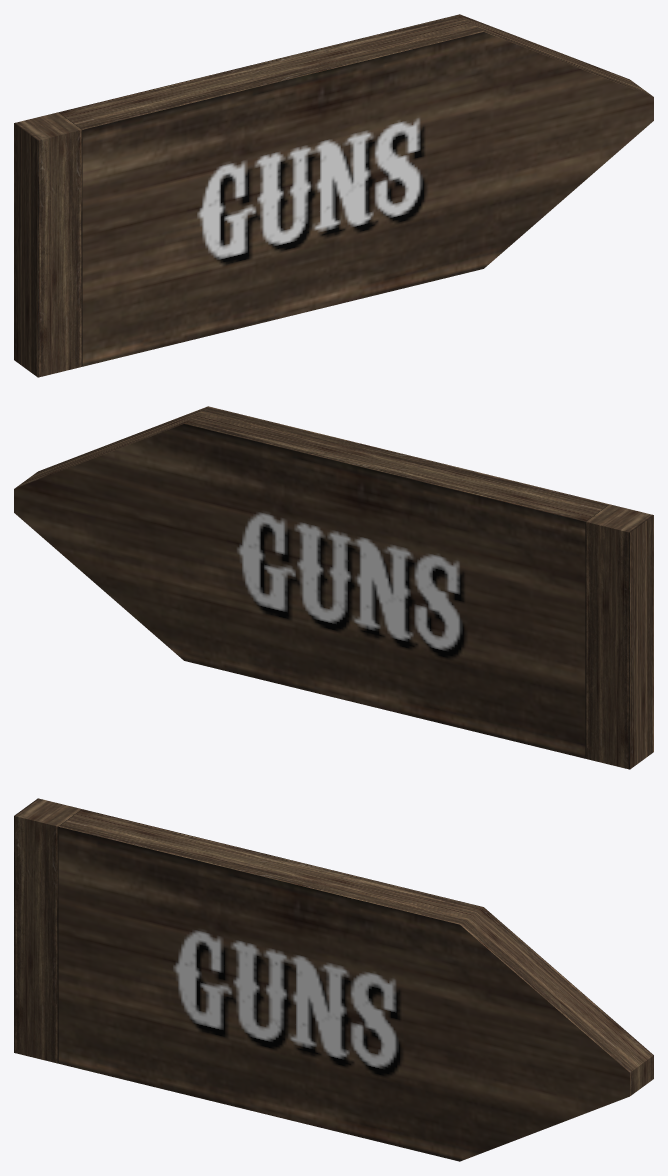
Rendered from wooden-sign-01.fbx.
The picture shows the model from 3 angles, top to bottom: view 1: azimuth 30°, elevation 25°; view 2: azimuth 150°, elevation 25°; view 3: azimuth 330°, elevation 25°; orthographic projection.
Parts seen in each view (by area): view 1: Cube.250; view 2: Cube.250; view 3: Cube.250.
Part boxes in pixels (bbox=[...]): Cube.250: bbox=[14, 14, 653, 377]; Cube.250: bbox=[14, 406, 653, 769]; Cube.250: bbox=[14, 798, 653, 1161].
Bounding box in the file's own units: 0.8128 × 0.2988 × 0.0549.
